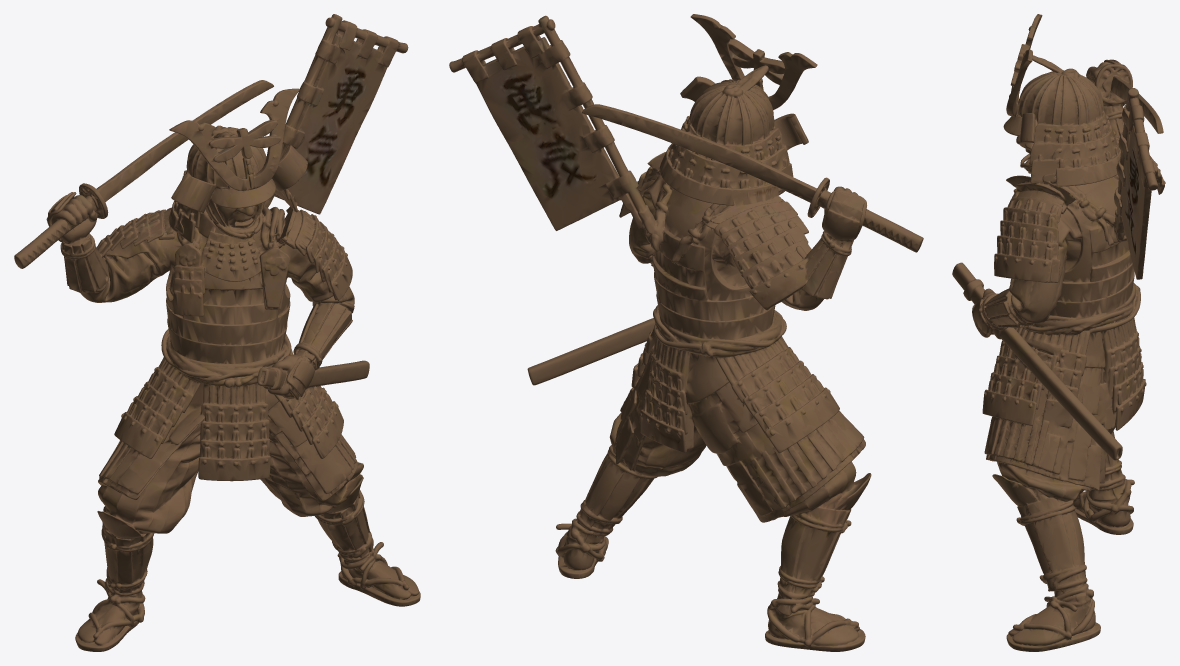
The model's file is Meshy_AI_Cardboard_Samurai_1021140614_texture.glb.
3 renders of one model, left to right at view 1: azimuth 30°, elevation 25°; view 2: azimuth 150°, elevation 25°; view 3: azimuth 270°, elevation 25°, orthographic. The views are drawn at different scales.
Size of the model in its own units: 1.53 by 1.9 by 0.6691.
1 material, 1 textured.
